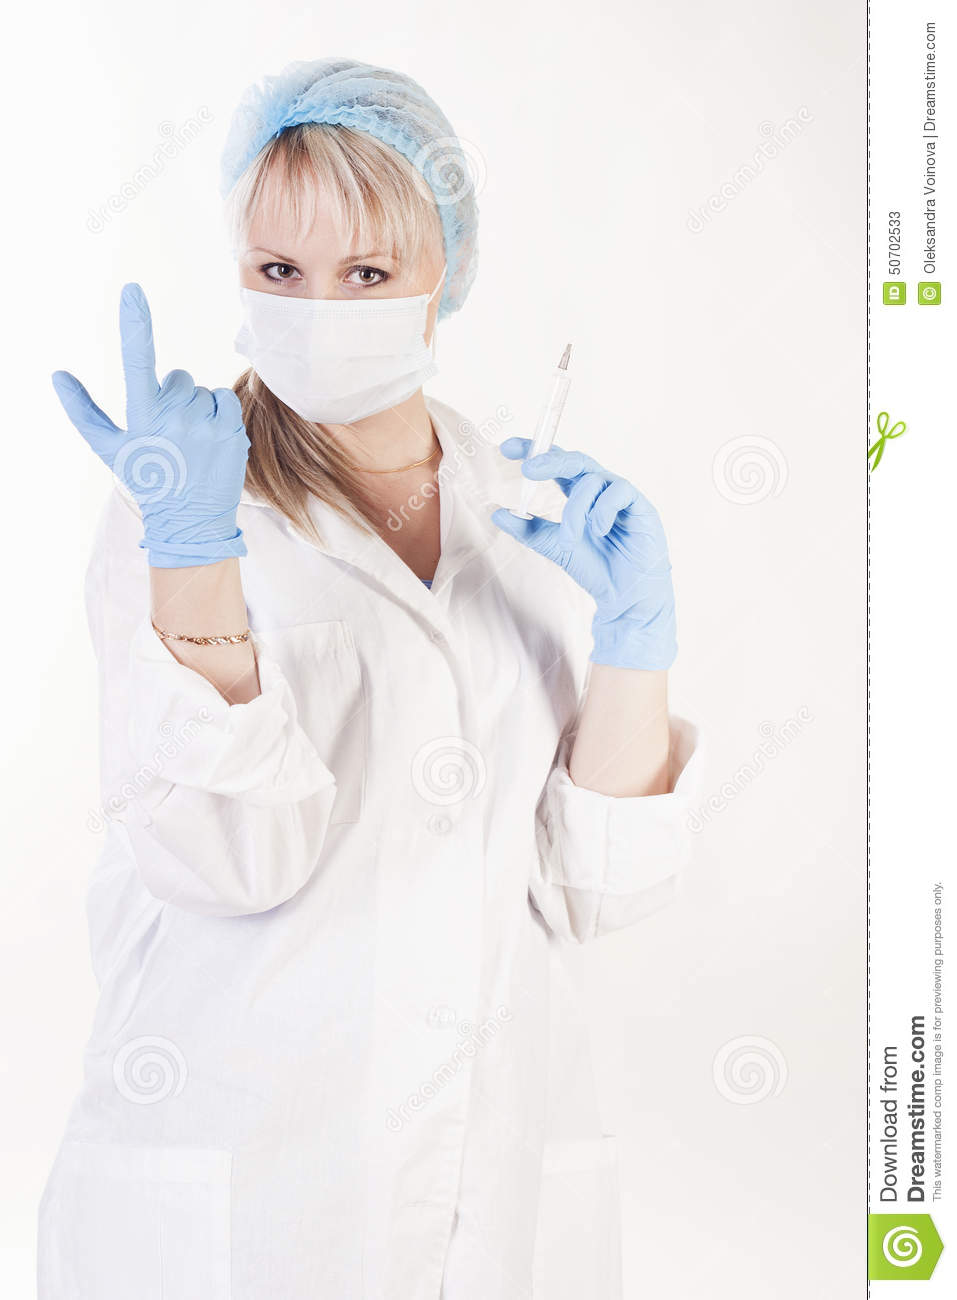mask: (242, 289, 442, 435)
